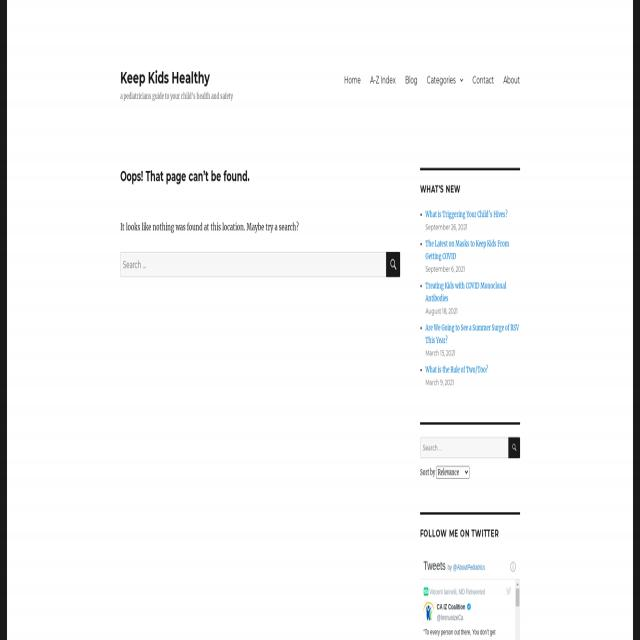button: (422, 67, 468, 92), (366, 67, 400, 92), (468, 67, 498, 92), (498, 67, 524, 92), (339, 67, 365, 92), (400, 67, 422, 92), (386, 252, 400, 277), (508, 438, 520, 458)
field: (120, 252, 386, 277), (420, 438, 508, 458), (436, 466, 469, 479)
